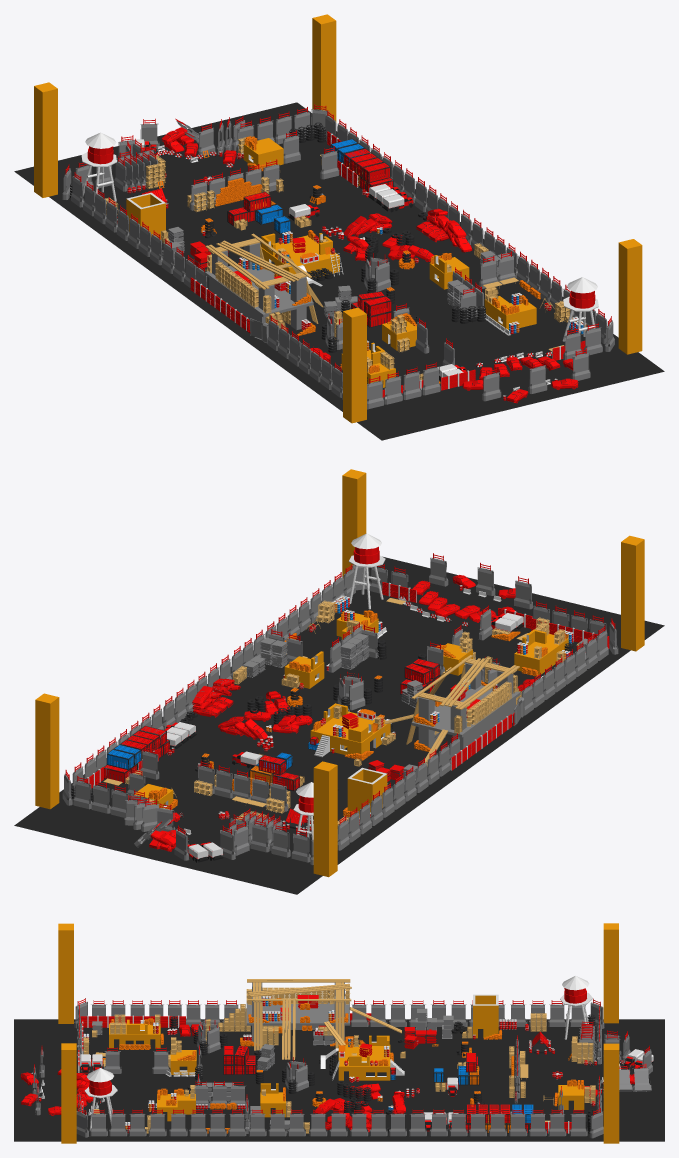
The model's file is map_yard_raw.glb.
3 views of the same model, one above another, from view 1: azimuth 30°, elevation 25°; view 2: azimuth 150°, elevation 25°; view 3: azimuth 270°, elevation 25° (orthographic). The views are drawn at different scales.
Parts seen in each view (by area): view 1: Map_PLANE, Map_D-W-50, Map_YELLOW, Map_material, Map_WOOD, Map_WHITE-EF, Map_DARK-2, Map_ORANGE, Map_BLUE; view 2: Map_PLANE, Map_D-W-50, Map_YELLOW, Map_material, Map_WOOD, Map_WHITE-EF, Map_DARK-2, Map_ORANGE, Map_BLUE; view 3: Map_PLANE, Map_D-W-50, Map_YELLOW, Map_material, Map_WOOD, Map_DARK-2, Map_WHITE-EF, Map_ORANGE, Map_BLUE, Map_DARK.
Boxes of the visible parts, x1,y1,x2,y2 form: Map_PLANE: (14, 102, 664, 440); Map_D-W-50: (62, 109, 614, 409); Map_YELLOW: (34, 14, 642, 423); Map_material: (65, 104, 611, 403); Map_WOOD: (105, 137, 572, 380); Map_WHITE-EF: (81, 132, 598, 399); Map_DARK-2: (69, 122, 551, 383); Map_ORANGE: (157, 136, 586, 383); Map_BLUE: (242, 139, 583, 333); Map_PLANE: (14, 556, 664, 894); Map_D-W-50: (62, 557, 618, 864); Map_YELLOW: (35, 469, 644, 877); Map_material: (65, 546, 615, 858); Map_WOOD: (103, 598, 584, 825); Map_WHITE-EF: (83, 533, 594, 859); Map_DARK-2: (71, 596, 573, 861); Map_ORANGE: (133, 597, 568, 817); Map_BLUE: (107, 597, 571, 779); Map_PLANE: (14, 1019, 664, 1141); Map_D-W-50: (32, 982, 652, 1138); Map_YELLOW: (58, 923, 619, 1143); Map_material: (20, 988, 649, 1133); Map_WOOD: (83, 979, 595, 1133); Map_DARK-2: (80, 1014, 651, 1133); Map_WHITE-EF: (31, 976, 653, 1133); Map_ORANGE: (83, 997, 583, 1133); Map_BLUE: (84, 997, 533, 1124); Map_DARK: (80, 1015, 653, 1130).
Bounding box in the file's own units: 63.87 × 23.14 × 139.
